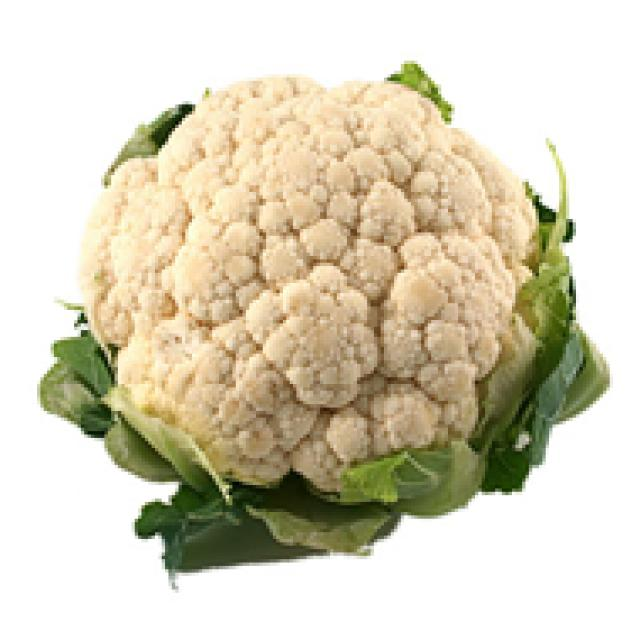cauliflower: (53, 65, 590, 551)
